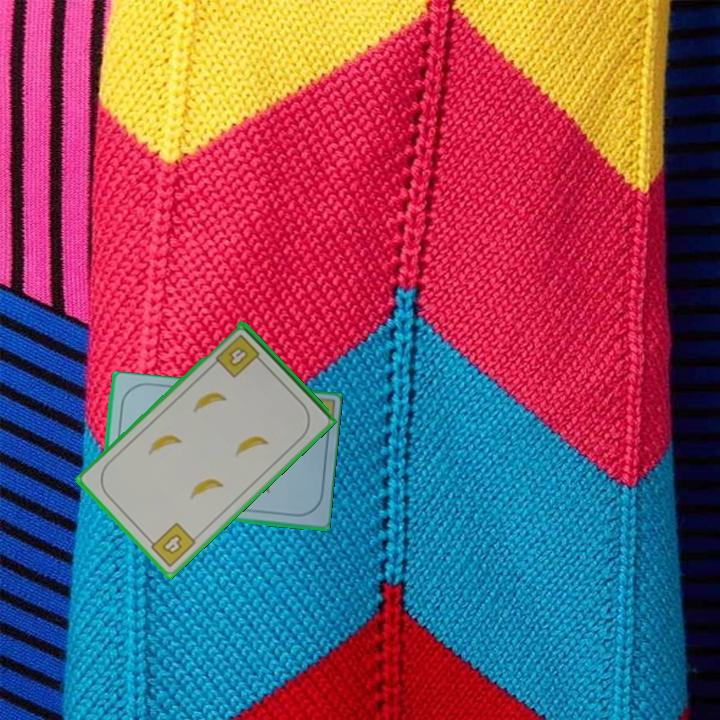4b: (143, 519, 199, 570), (212, 331, 267, 381)
